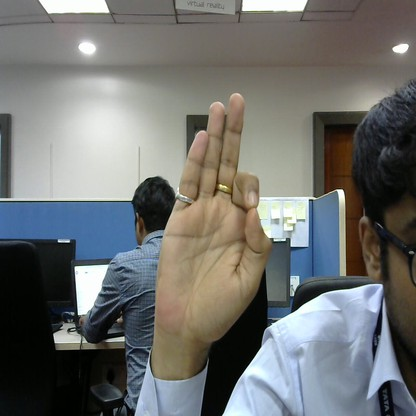f: (145, 84, 288, 354)
